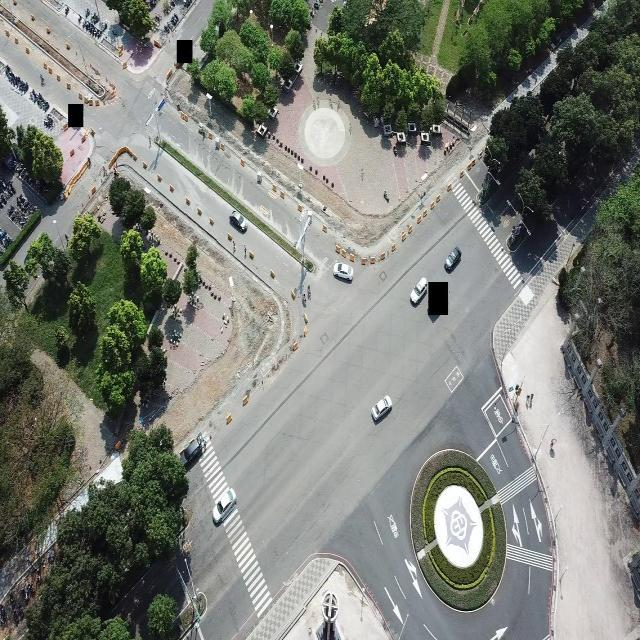car: (212, 487, 236, 526), (184, 432, 206, 463), (370, 394, 392, 422), (410, 276, 428, 305), (229, 209, 248, 233), (444, 246, 461, 272), (333, 261, 353, 282)
